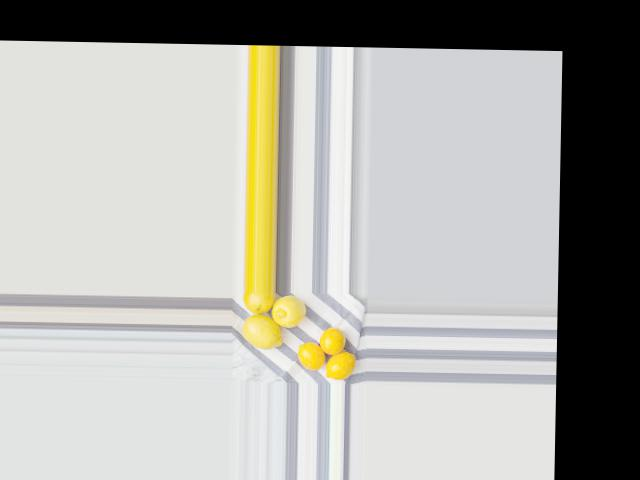lemon: (239, 290, 275, 315)
